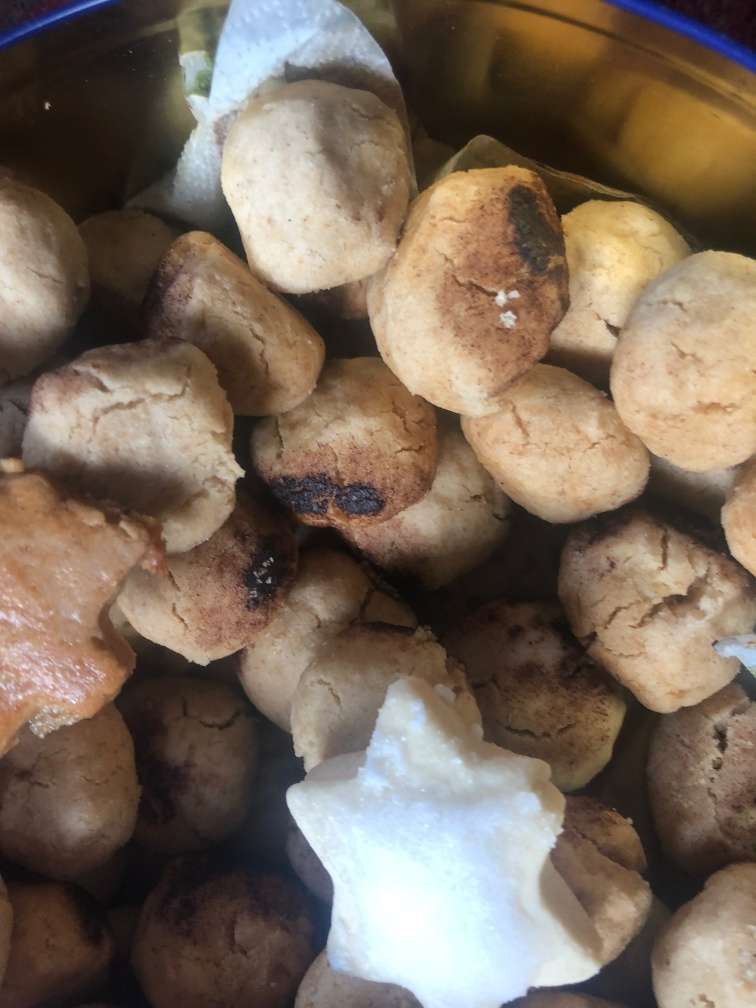snowball: (366, 165, 562, 418), (24, 342, 236, 545), (216, 79, 419, 286), (556, 516, 756, 711), (559, 515, 756, 710), (607, 243, 755, 466), (250, 359, 441, 527), (546, 191, 688, 370), (117, 524, 279, 666)
star: (283, 674, 597, 1007)
